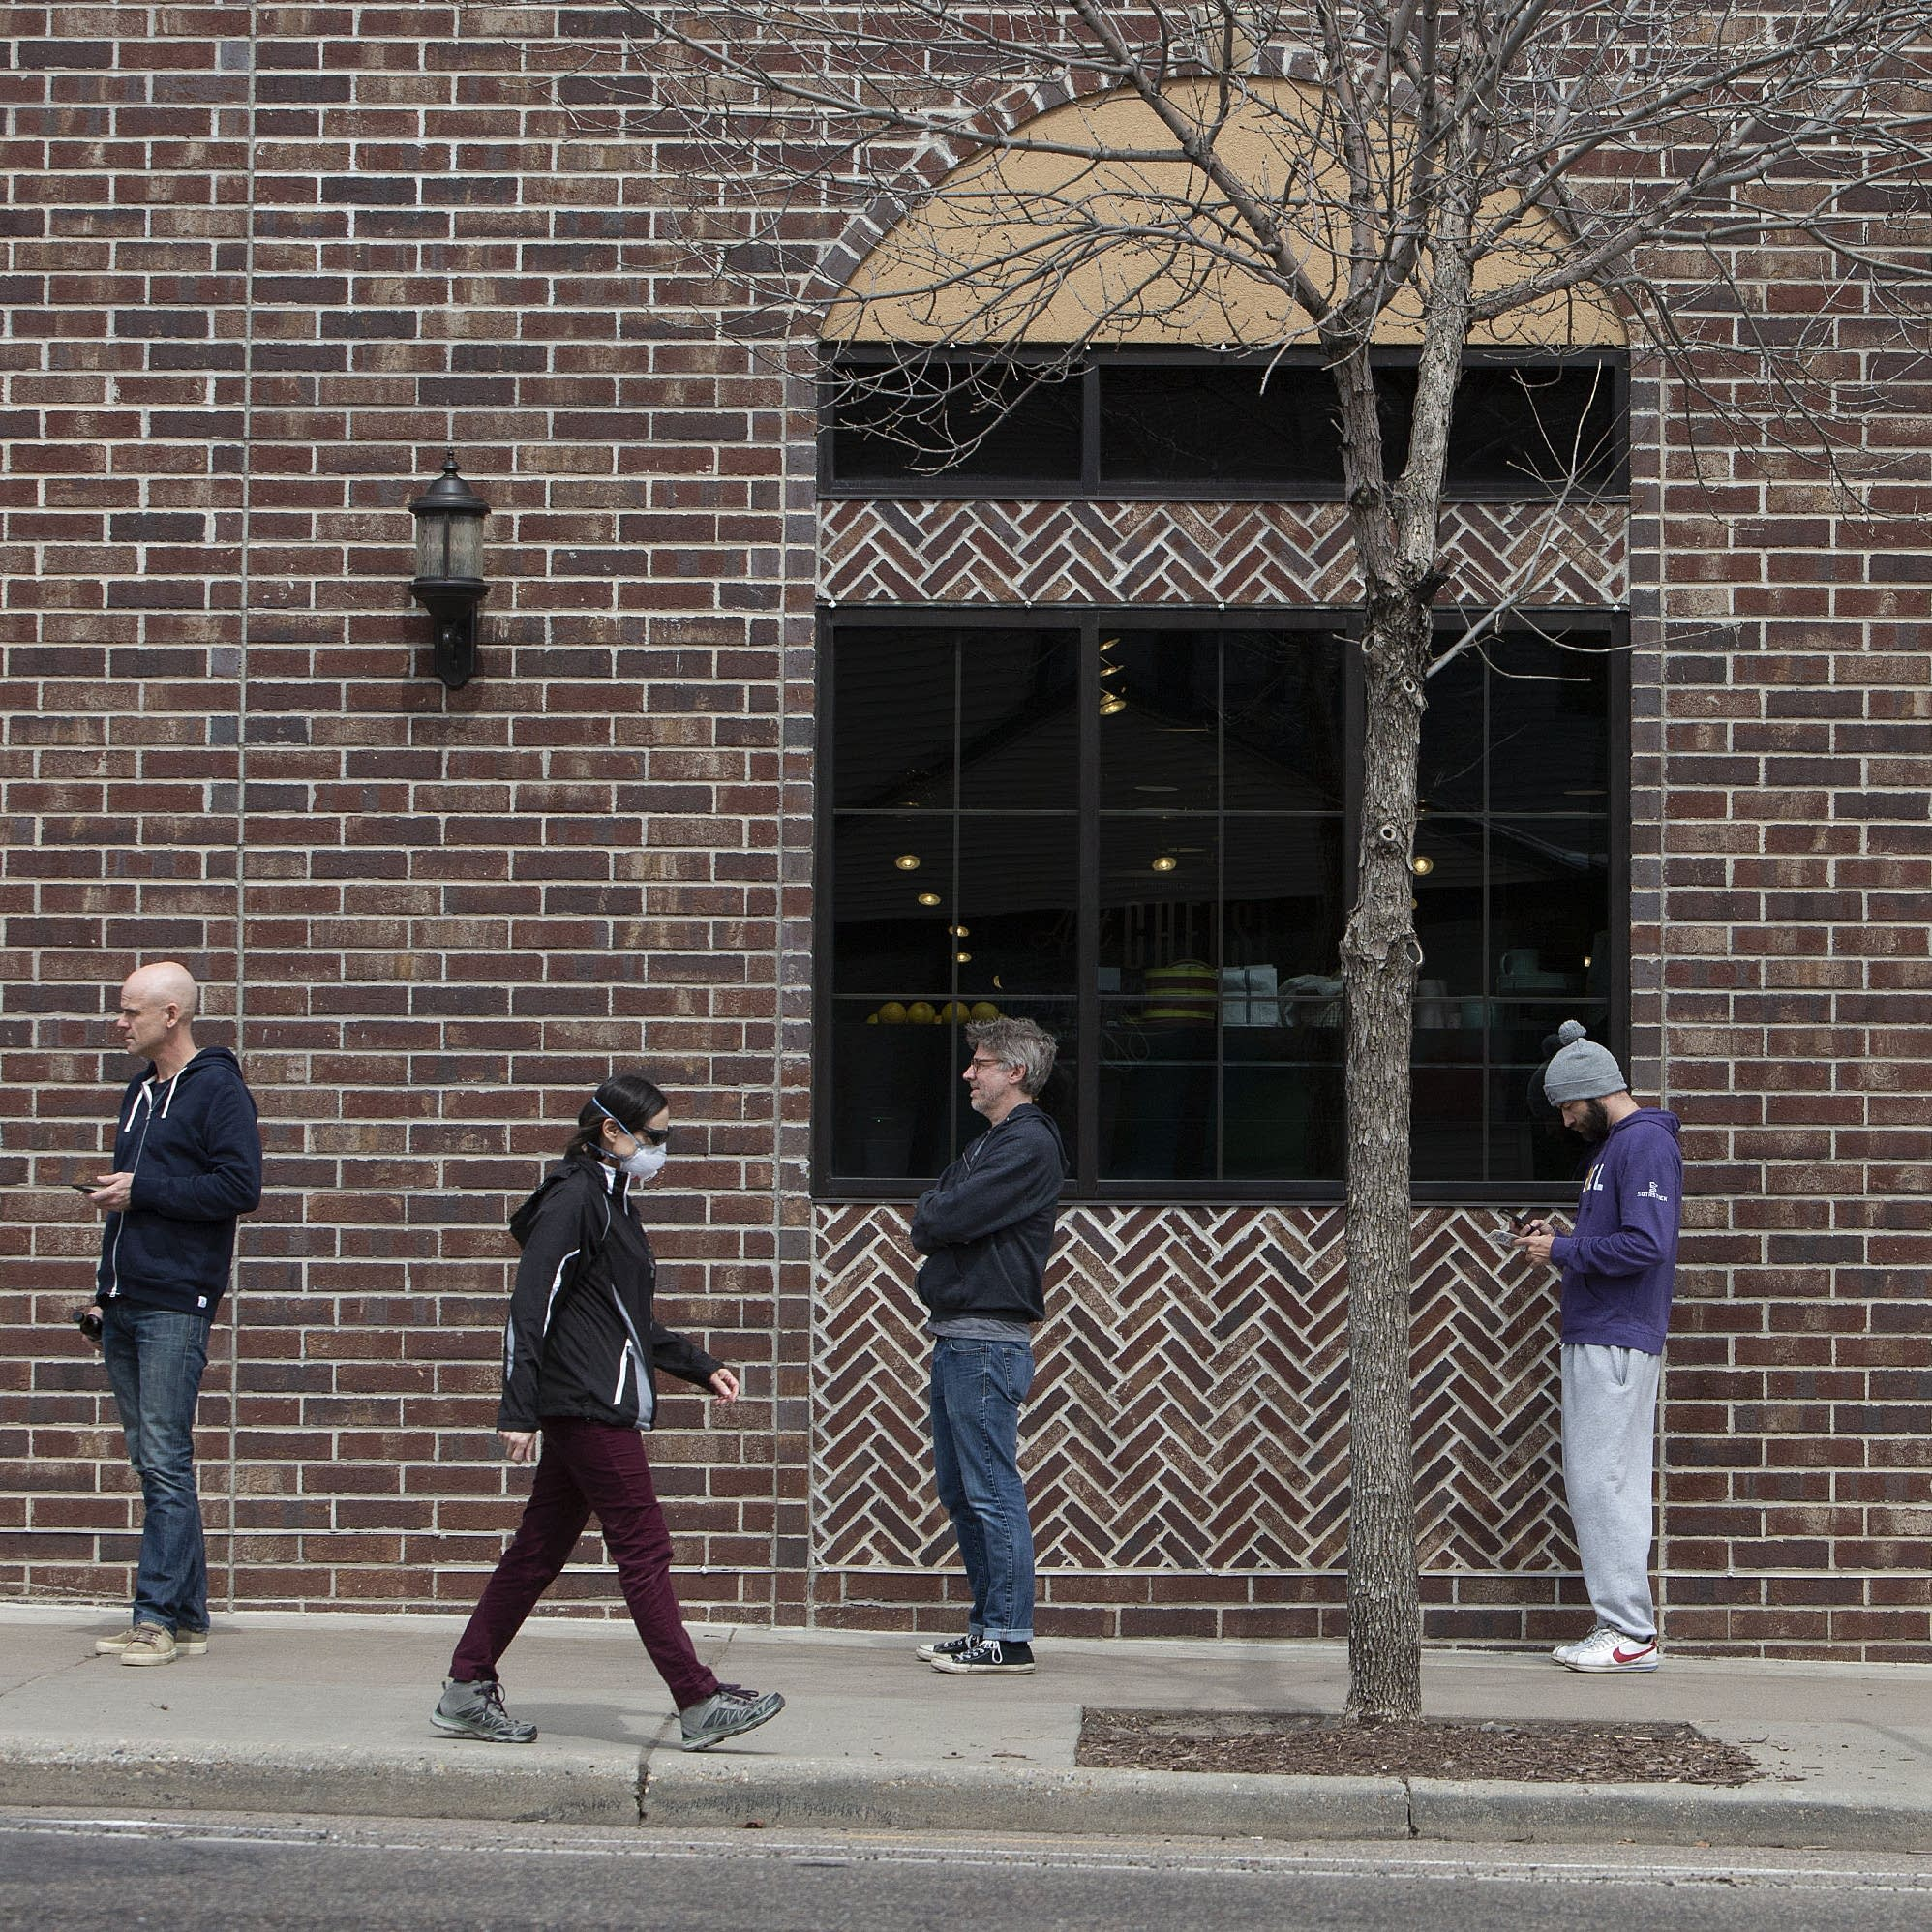Good: (902, 952, 1690, 1684), (71, 959, 789, 1743), (435, 943, 1072, 1746)
